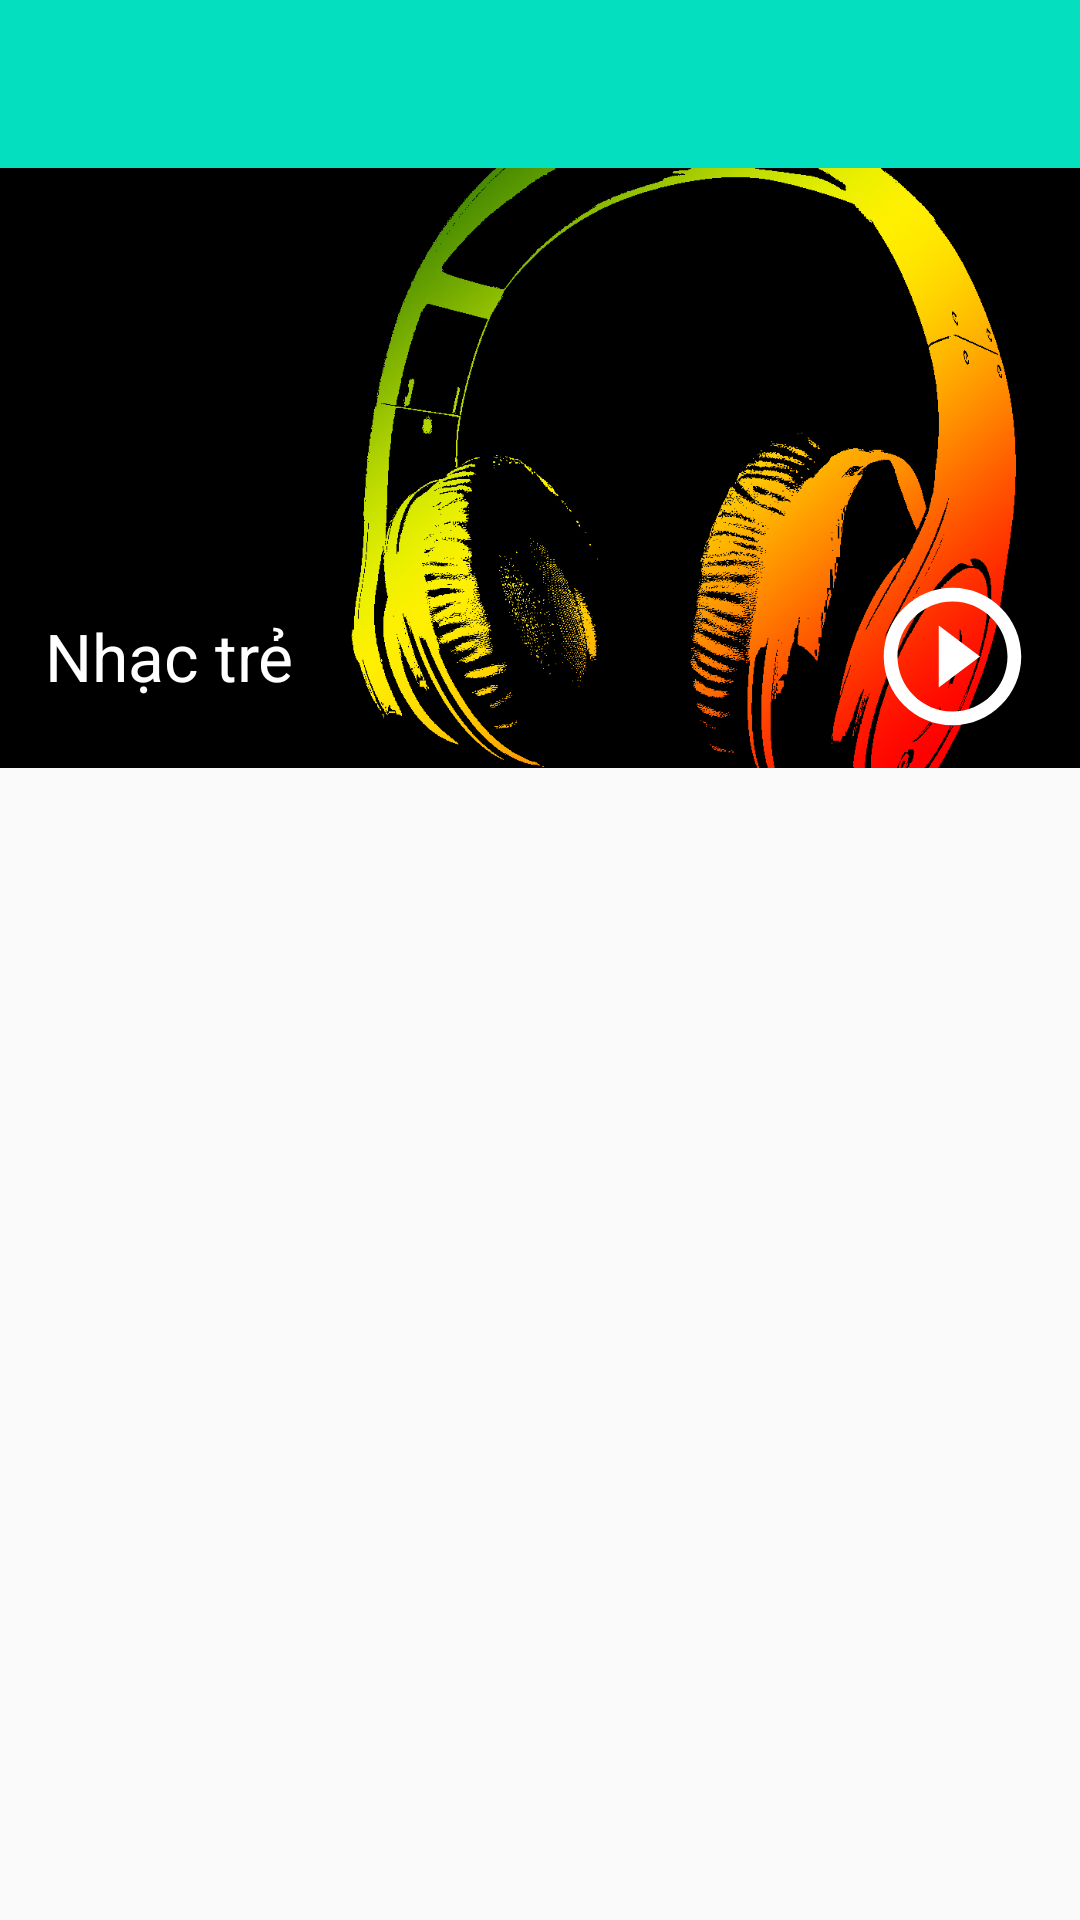

Icons on this 1080px x 1920px Android screen, each with the point to tap as [x,y]:
toplay: [952,656]
